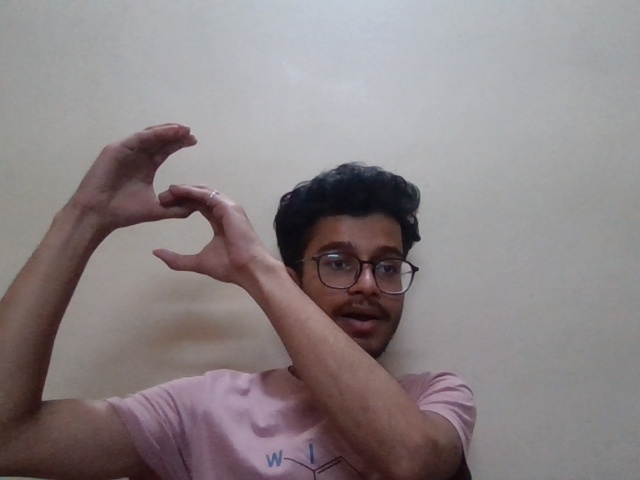S: (52, 117, 298, 299)
